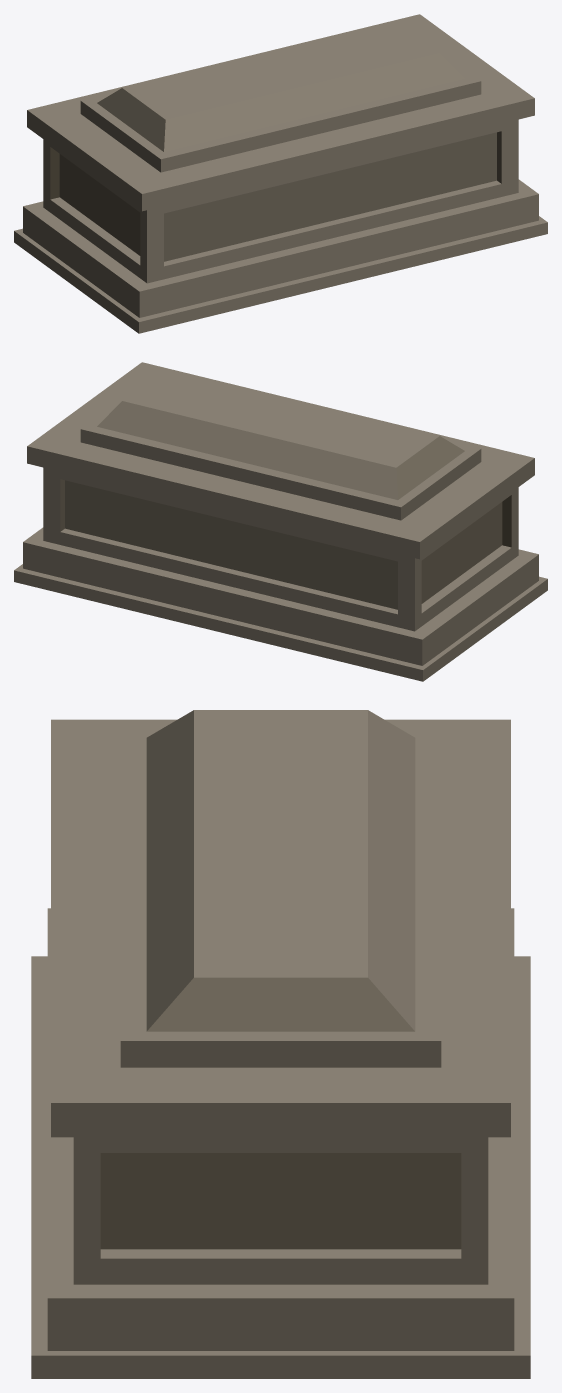
The model's file is SF_Prop_Undead_Chest_01.fbx.
The picture shows the model from 3 angles, top to bottom: view 1: azimuth 30°, elevation 25°; view 2: azimuth 150°, elevation 25°; view 3: azimuth 270°, elevation 25°; orthographic projection. The views are drawn at different scales.
Visible parts, largest first — view 1: SF_Prop_Undead_Chest_01, SF_Prop_Undead_Chest_Lid_01; view 2: SF_Prop_Undead_Chest_01, SF_Prop_Undead_Chest_Lid_01; view 3: SF_Prop_Undead_Chest_Lid_01, SF_Prop_Undead_Chest_01.
Part boxes in pixels (x1=…): SF_Prop_Undead_Chest_01: x1=14, y1=119, x2=547, y2=333; SF_Prop_Undead_Chest_Lid_01: x1=27, y1=14, x2=534, y2=211; SF_Prop_Undead_Chest_01: x1=14, y1=467, x2=547, y2=681; SF_Prop_Undead_Chest_Lid_01: x1=27, y1=362, x2=534, y2=559; SF_Prop_Undead_Chest_Lid_01: x1=51, y1=710, x2=510, y2=1137; SF_Prop_Undead_Chest_01: x1=31, y1=908, x2=530, y2=1378.
Bounding box in the file's own units: 3.51 × 1.37 × 1.85.
